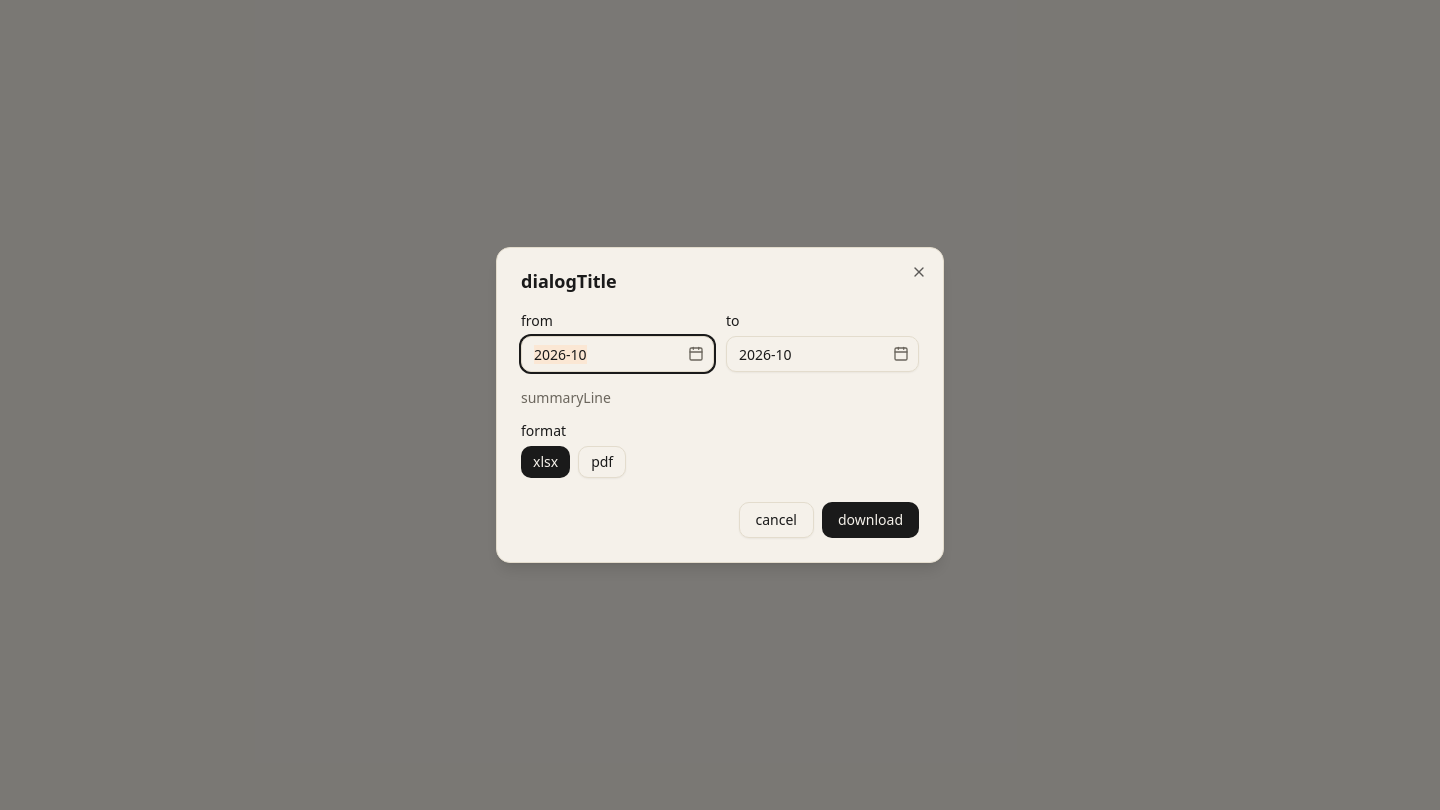
Test case: LaborExportDialog — range validation UI › shows errorRangeInvalid and disables download when from > to
Replace the text in the field with id "export-from" with "2026-06" at (618, 354), box x1=521 y1=336 x2=714 y2=372
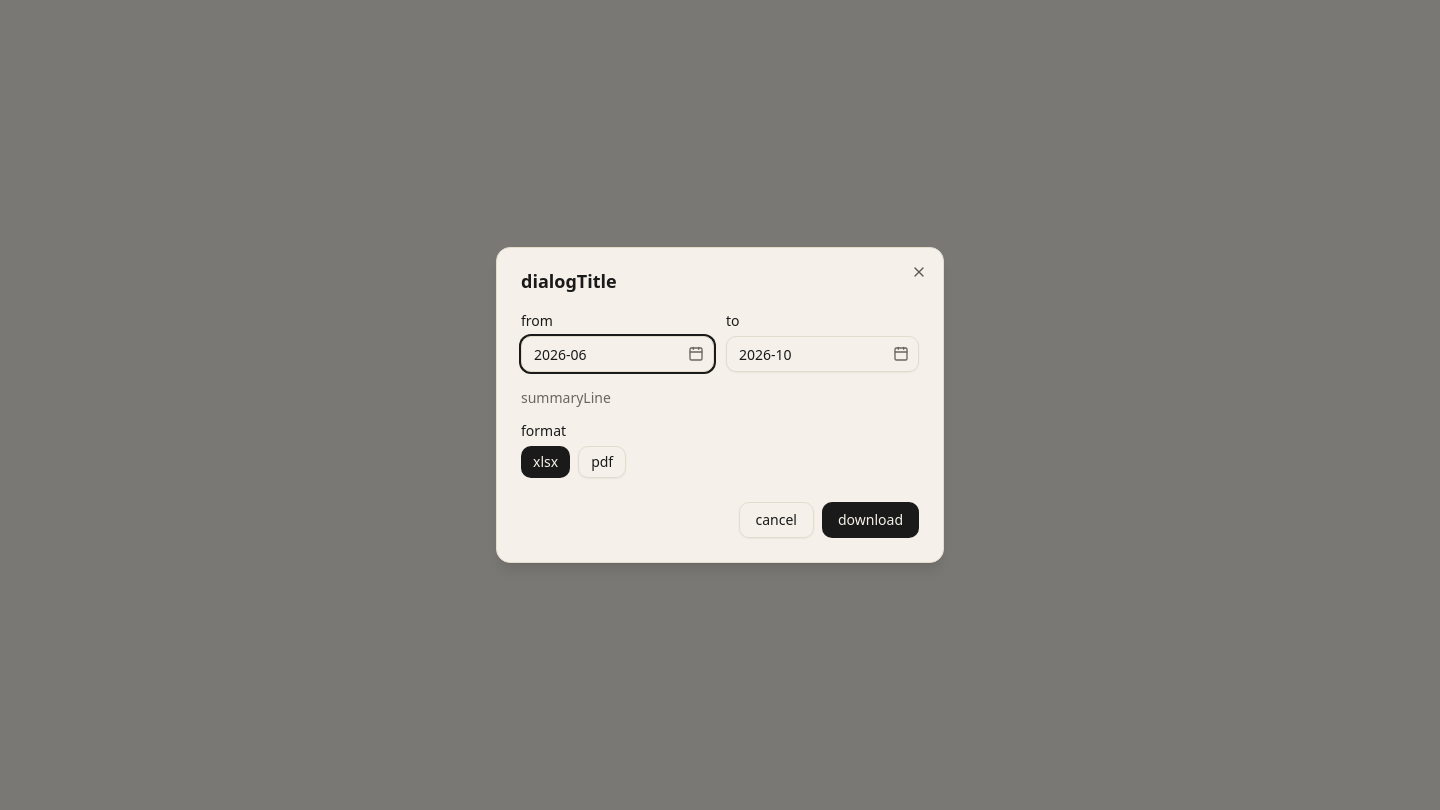
Replace the text in the field with id "export-to" with "2026-03" at (822, 354), box x1=726 y1=336 x2=919 y2=372
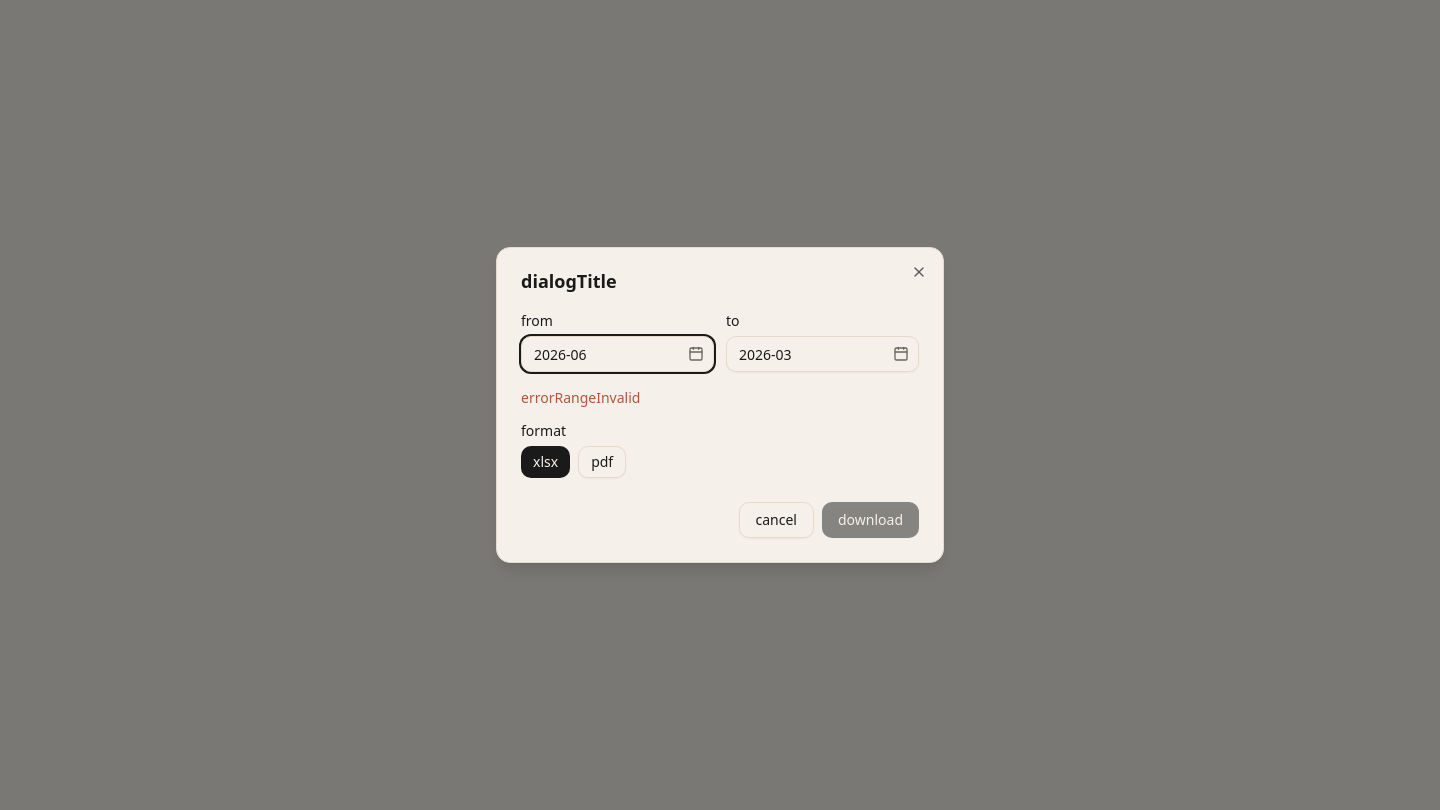
expect the text "errorRangeInvalid" is shown: met, box x1=521 y1=388 x2=640 y2=407
expect the button "download" is disabled: met, box x1=822 y1=502 x2=919 y2=538
